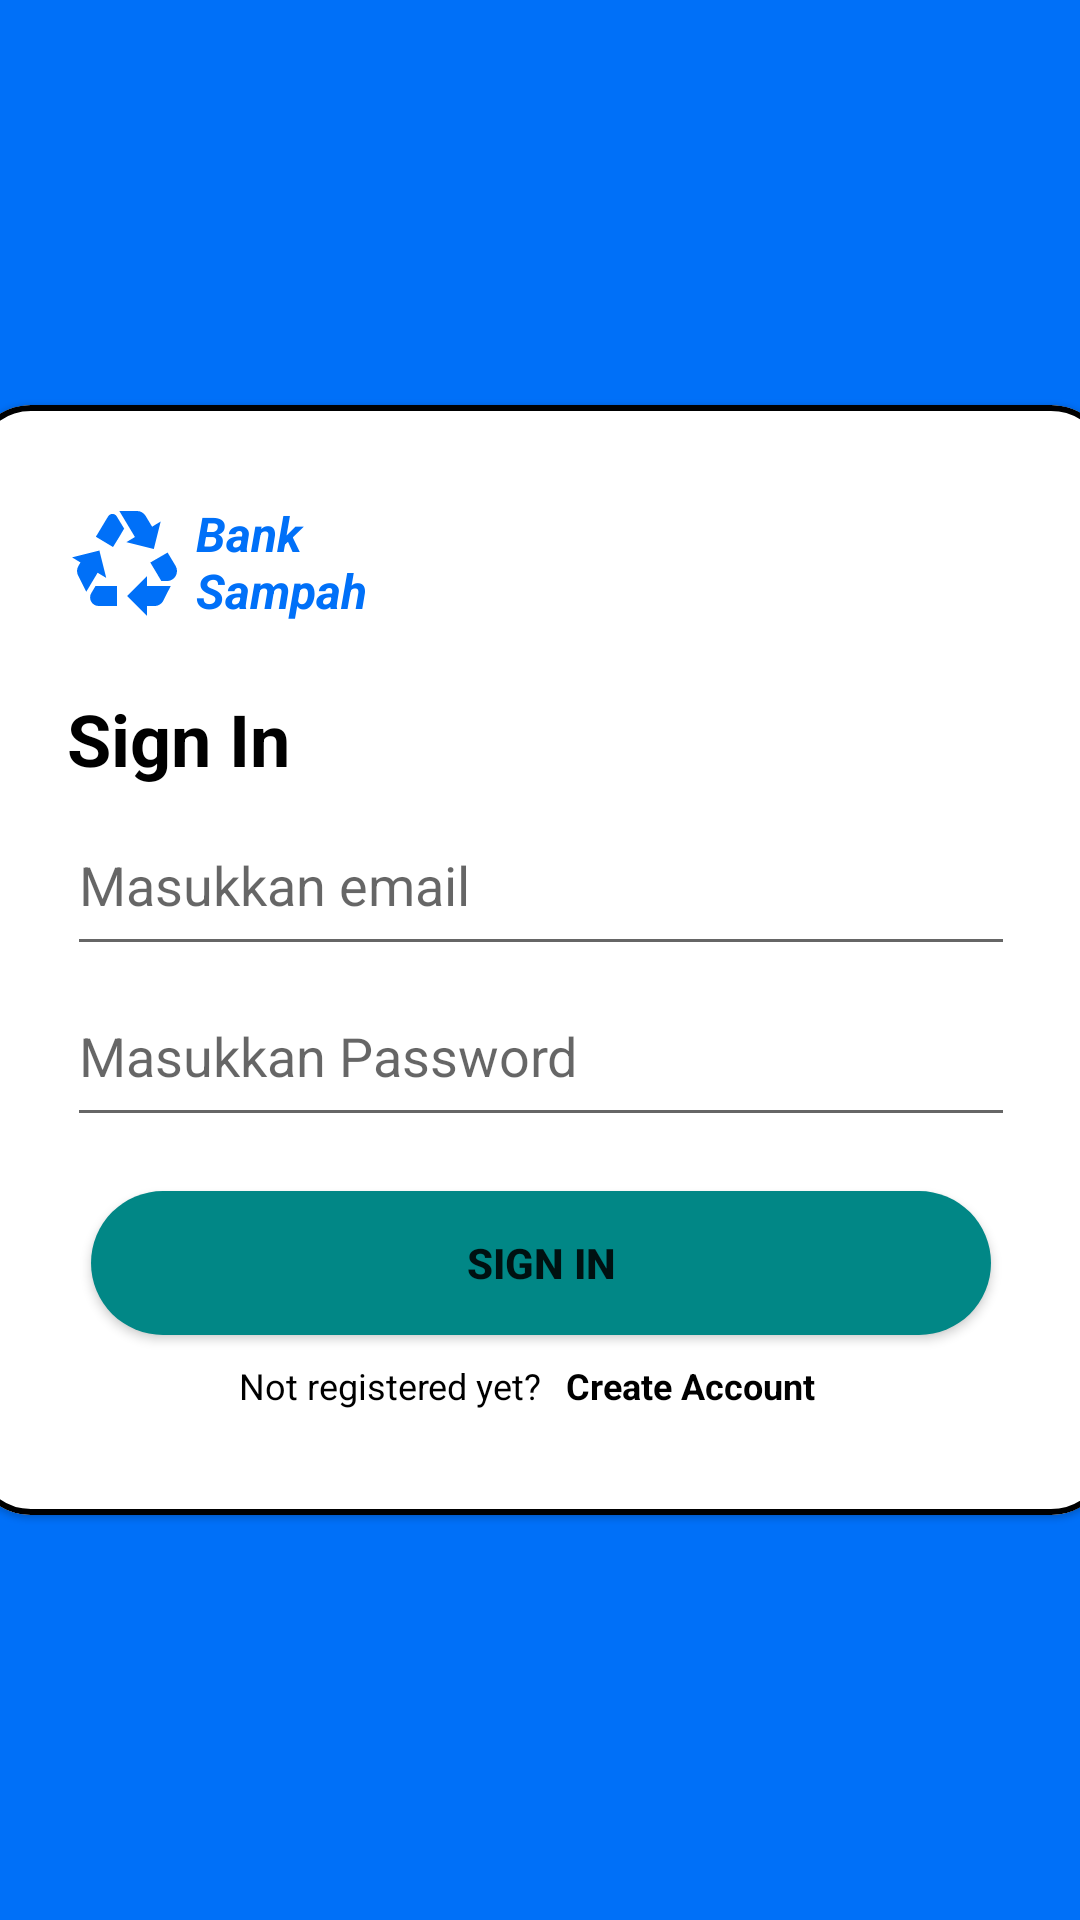

Icons on this 1080px x 1920px Android screen, each with the point to tap as (x=x, y=y):
recycling login: (x=124, y=563)
